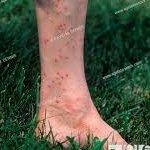Reupload: (35, 0, 127, 149)
